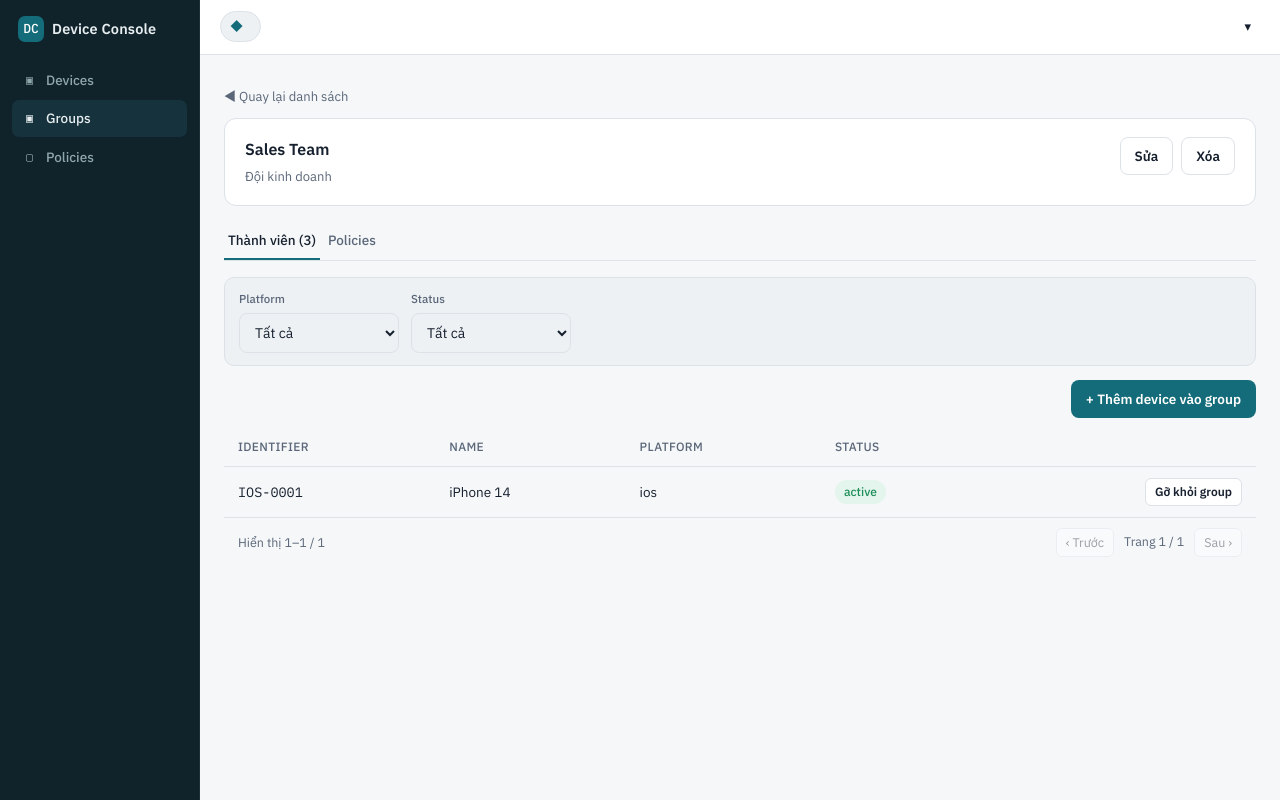
GroupDetailView › header: edit and delete › switches to the not-found page when the edit 404s (deleted elsewhere)
The image size is (1280, 800).
Click the button with test id "group-detail-edit-button" at (1146, 156), box [1120,137,1173,175]
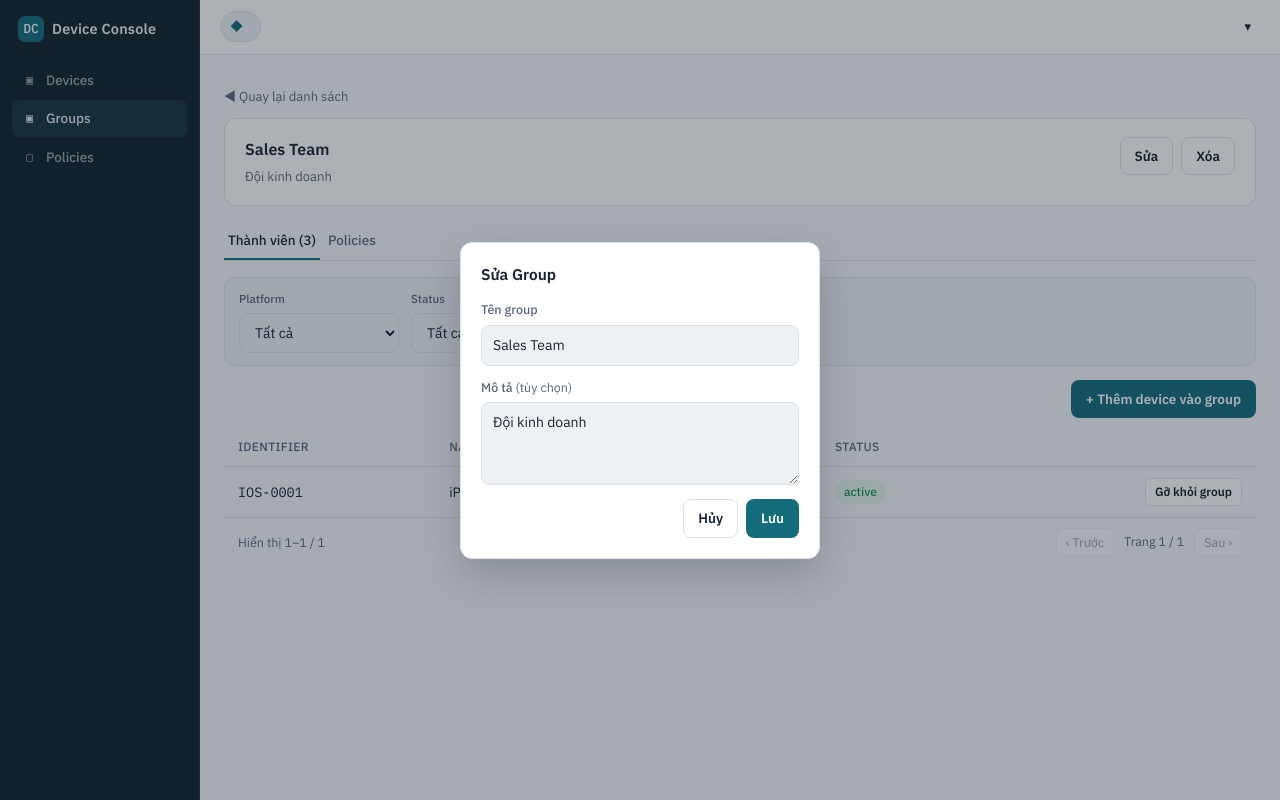
Replace the text in the field with test id "group-form-name" with "Sales APAC" at (640, 345), box [481,324,799,366]
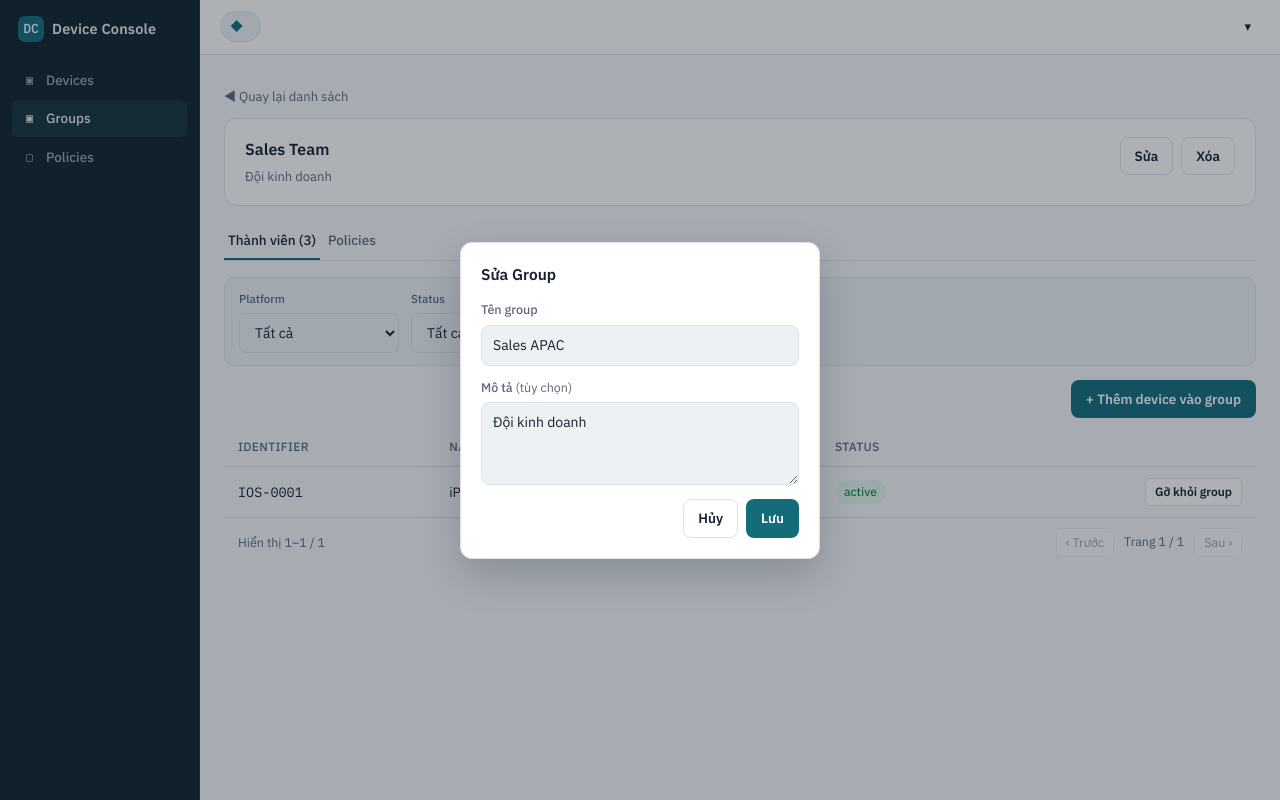
Submit the form, box [460,242,820,558]
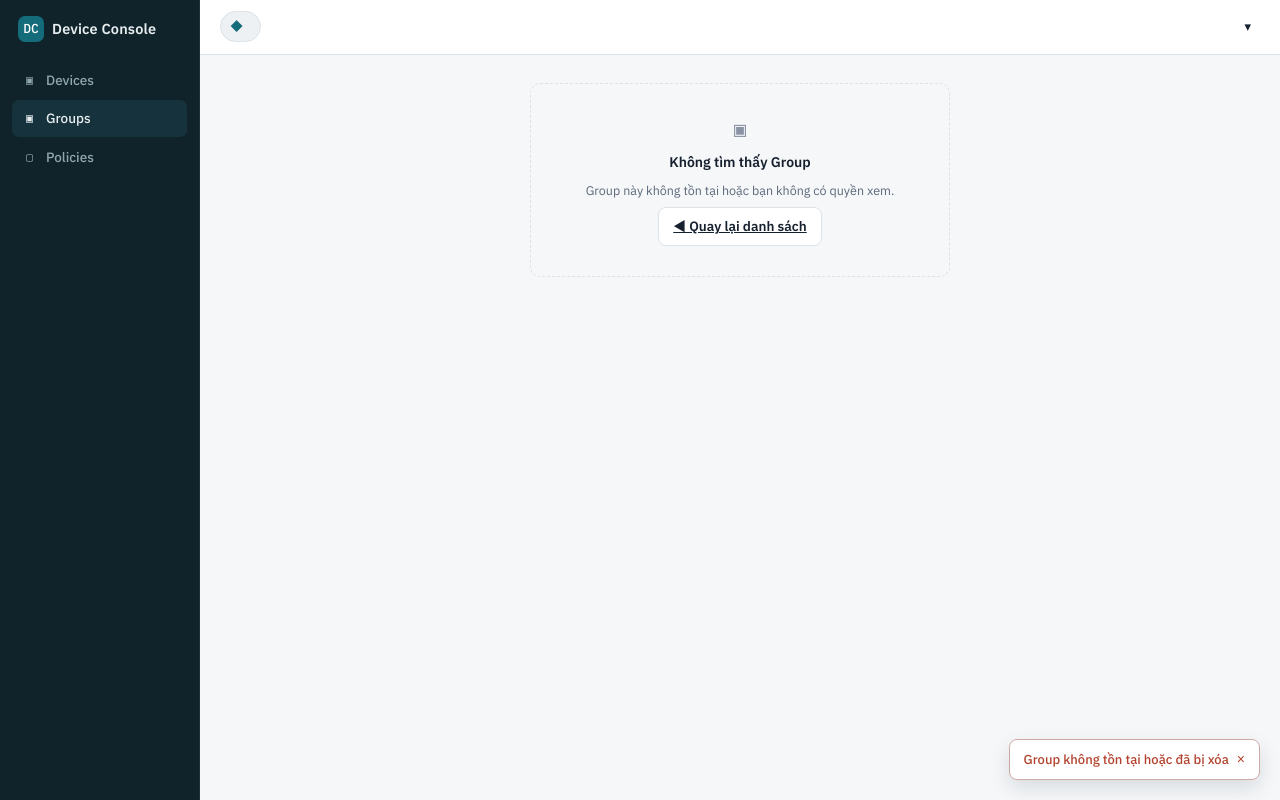
Expected: the element with test id "toast" shows "Group không tồn tại hoặc đã bị xóa", [1024,750,1229,768]
Expected: the element with test id "empty-state" shows "Không tìm thấy Group", [669,152,811,170]
